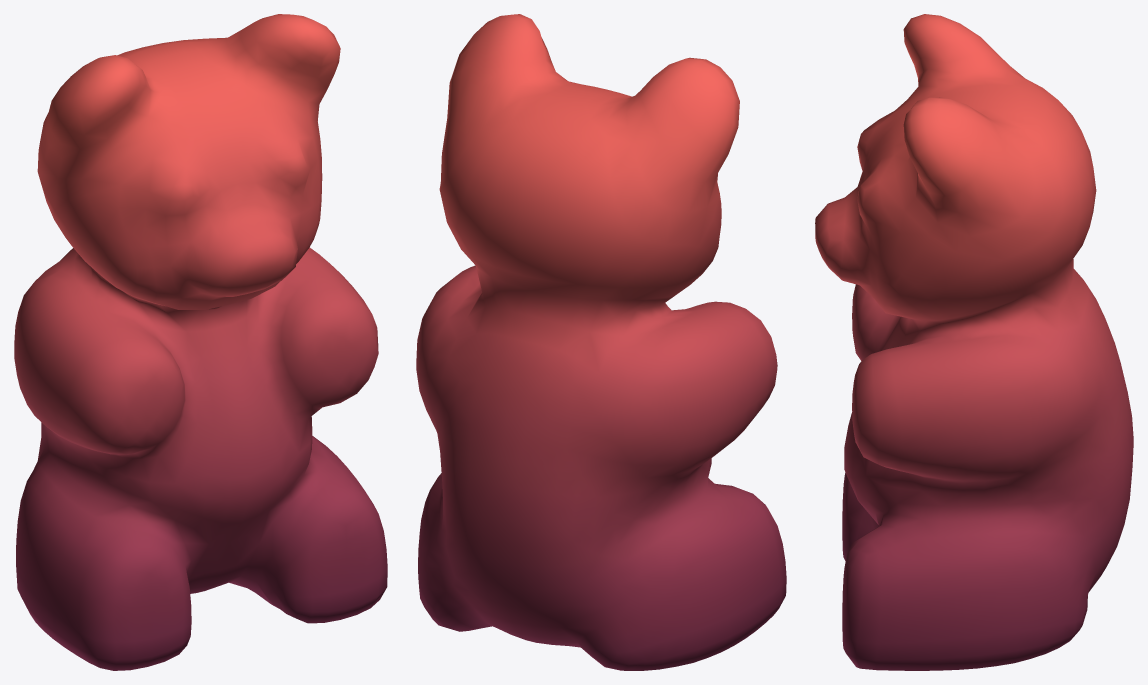
File: candy_glass_13.fbx
3 renders of one model, left to right at view 1: azimuth 30°, elevation 25°; view 2: azimuth 150°, elevation 25°; view 3: azimuth 270°, elevation 25°, orthographic. The views are drawn at different scales.
Parts seen in each view (by area): view 1: c_g_13; view 2: c_g_13; view 3: c_g_13.
Part boxes in pixels (left/top/right/bottom): c_g_13: left=14, top=14, right=387, bottom=670; c_g_13: left=416, top=14, right=786, bottom=670; c_g_13: left=815, top=14, right=1133, bottom=670.
Bounding box in the file's own units: 139 × 245 × 129.
